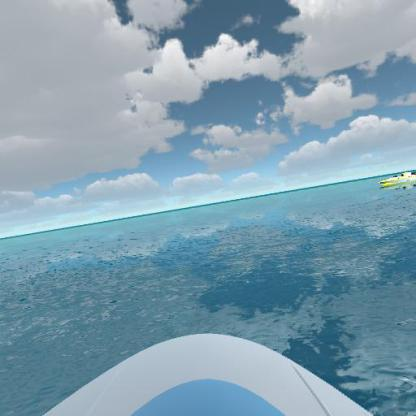usv2: (371, 166, 415, 195)
